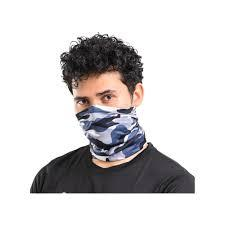scarf-kerchief: (74, 102, 156, 165)
